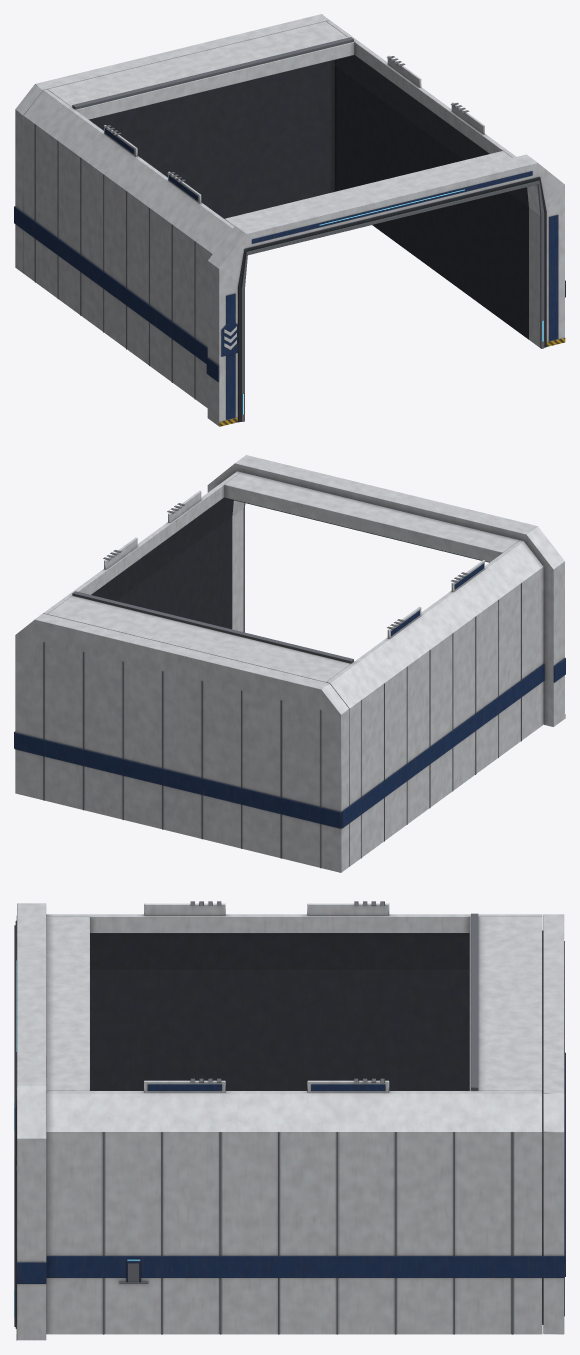
Rendered from 整備庫_46_整修庫_殼.glb.
The picture shows the model from 3 angles, top to bottom: view 1: azimuth 30°, elevation 25°; view 2: azimuth 150°, elevation 25°; view 3: azimuth 270°, elevation 25°; orthographic projection. The views are drawn at different scales.
Visible parts, largest first — view 1: Hall_shell_refit_Mesh; view 2: Hall_shell_refit_Mesh; view 3: Hall_shell_refit_Mesh.
Boxes of the visible parts, box(x1,y1,x2,y2) form: Hall_shell_refit_Mesh: box(14, 14, 565, 426); Hall_shell_refit_Mesh: box(14, 455, 565, 872); Hall_shell_refit_Mesh: box(14, 901, 565, 1340).
Size of the model in its own units: 70.4 by 36.36 by 75.63.
Materials: 2 (1 with a texture image).
